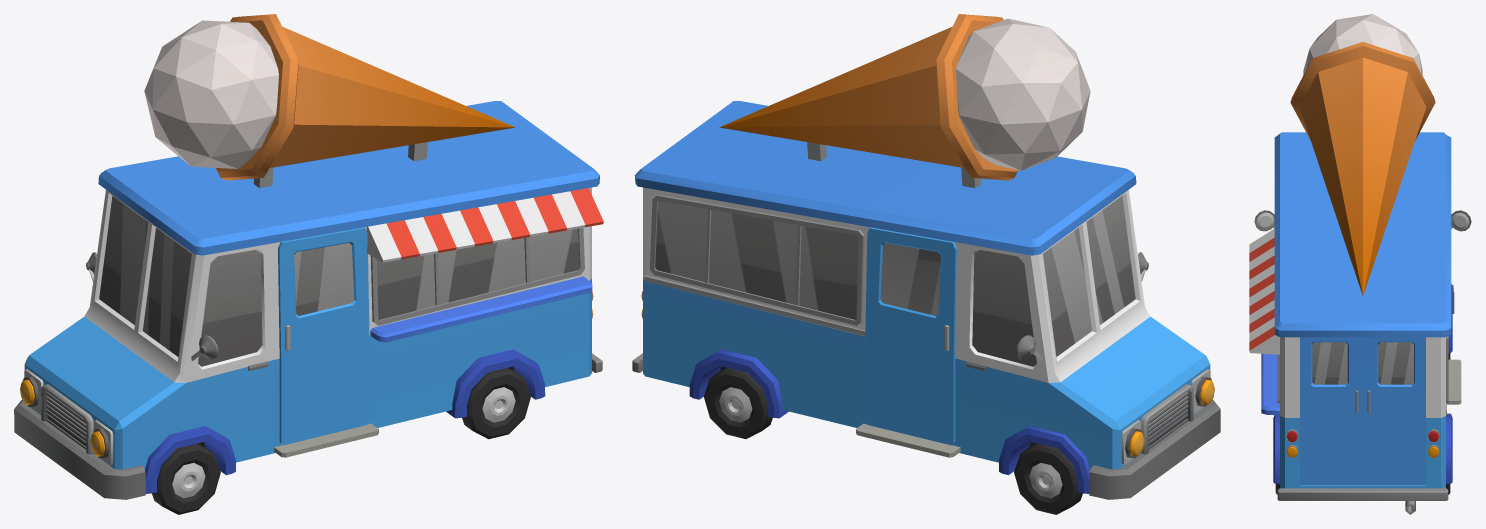
The model's file is IceTruck_2_A.gltf.
3 views of the same model, side by side, from view 1: azimuth 30°, elevation 25°; view 2: azimuth 150°, elevation 25°; view 3: azimuth 270°, elevation 25° (orthographic). The views are drawn at different scales.
Parts seen in each view (by area): view 1: IceTruck_2_A, RL, FL; view 2: IceTruck_2_A, FR, RR; view 3: IceTruck_2_A.
Part boxes in pixels (left/top/right/bottom): IceTruck_2_A: left=14, top=14, right=603, bottom=499; RL: left=462, top=367, right=530, bottom=439; FL: left=152, top=443, right=220, bottom=514; IceTruck_2_A: left=632, top=14, right=1220, bottom=499; FR: left=1014, top=443, right=1082, bottom=514; RR: left=704, top=368, right=772, bottom=438; IceTruck_2_A: left=1249, top=14, right=1471, bottom=514.
Bounding box in the file's own units: 4.16 × 3.43 × 1.84.
4 materials, 4 textured.
